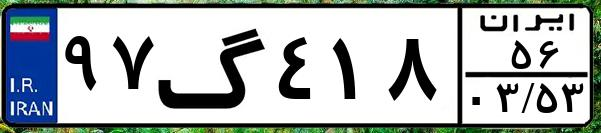0: (470, 70, 495, 125)
1: (330, 28, 385, 110)
3: (560, 70, 590, 125), (495, 70, 520, 125)
4: (270, 28, 330, 110)
5: (508, 27, 537, 80), (535, 70, 560, 125)
6: (537, 27, 568, 80)
7: (110, 28, 156, 98)
8: (385, 28, 445, 110)
9: (57, 26, 110, 100)
گ: (156, 12, 270, 120)
